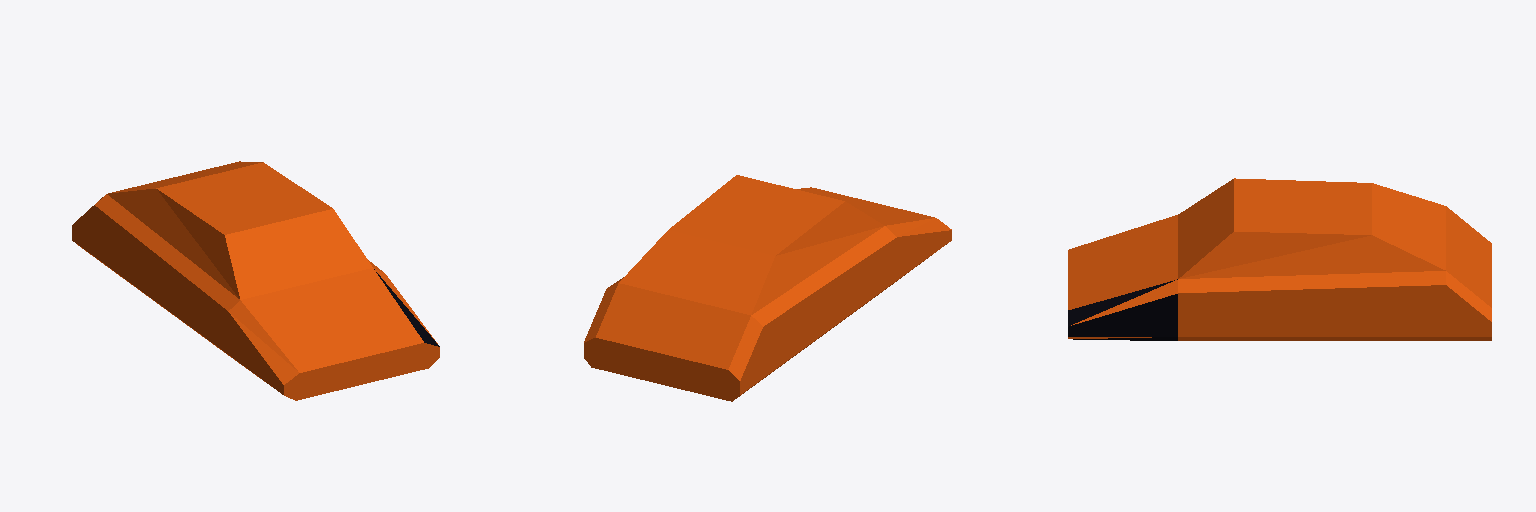
File: vehicle_coupe_simple.obj
3 renders of one model, left to right at view 1: azimuth 30°, elevation 25°; view 2: azimuth 150°, elevation 25°; view 3: azimuth 270°, elevation 25°, orthographic.
Size of the model in its own units: 1.96 by 1.22 by 4.6.